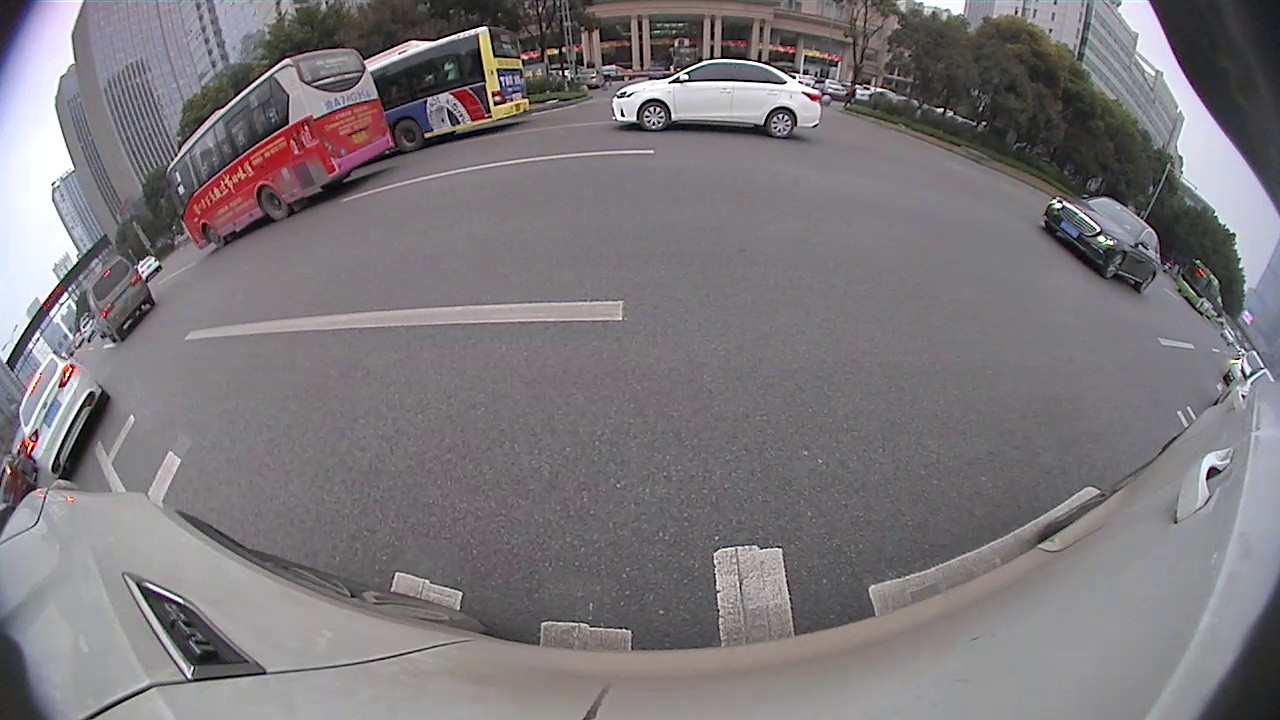bus: (164, 51, 393, 250), (364, 31, 526, 148)
car: (613, 59, 821, 135), (21, 353, 111, 483), (1045, 197, 1160, 293), (86, 256, 153, 341)
front: (638, 101, 670, 133), (200, 223, 228, 251), (1103, 250, 1127, 279)
rear: (258, 183, 289, 220), (766, 107, 798, 140), (395, 117, 422, 153), (1138, 267, 1158, 294)
